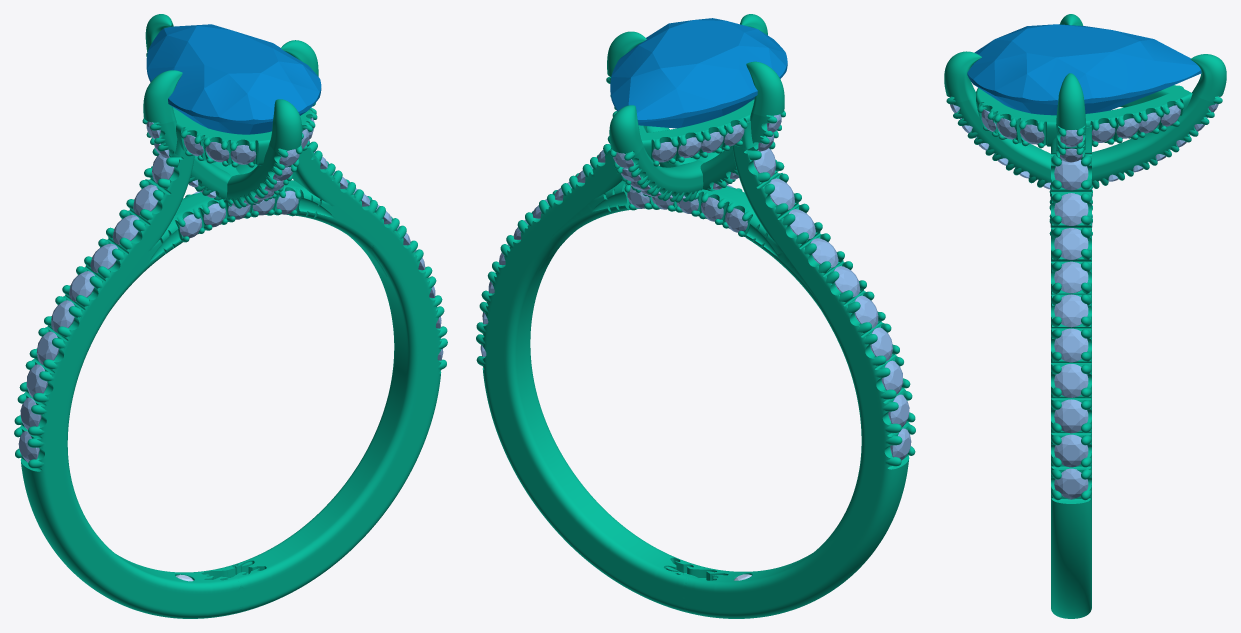
File: ring1.glb
3 views of the same model, side by side, from view 1: azimuth 30°, elevation 25°; view 2: azimuth 150°, elevation 25°; view 3: azimuth 270°, elevation 25° (orthographic). The views are drawn at different scales.
Parts seen in each view (by area): view 1: gold.3dm, Diamond_Pear; view 2: gold.3dm, Diamond_Pear; view 3: gold.3dm, Diamond_Pear, Diamond_Round (×10).
Boxes of the visible parts, bbox=[...] form: gold.3dm: bbox=[14, 14, 447, 618]; Diamond_Pear: bbox=[146, 24, 321, 134]; gold.3dm: bbox=[476, 14, 915, 618]; Diamond_Pear: bbox=[610, 18, 787, 128]; gold.3dm: bbox=[944, 14, 1226, 618]; Diamond_Pear: bbox=[967, 24, 1201, 115]; Diamond_Round (×10): bbox=[1054, 159, 1088, 499].
Bounding box in the file's own units: 2.32 × 2.96 × 1.36.
